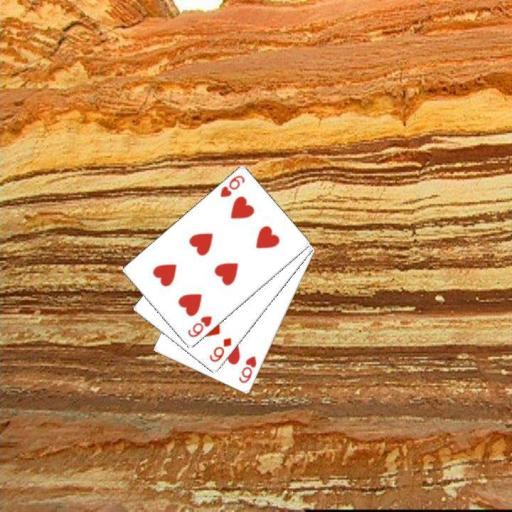6D: (206, 335, 233, 364)
6H: (217, 172, 247, 199), (185, 313, 214, 339), (236, 353, 259, 385)
